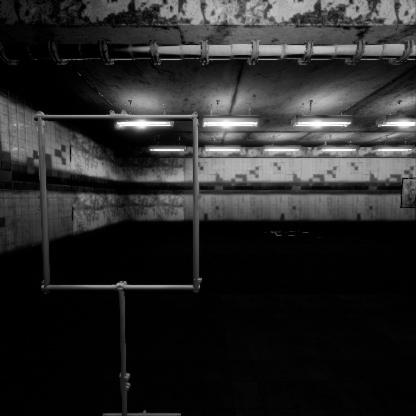gate: (38, 123, 214, 301)
